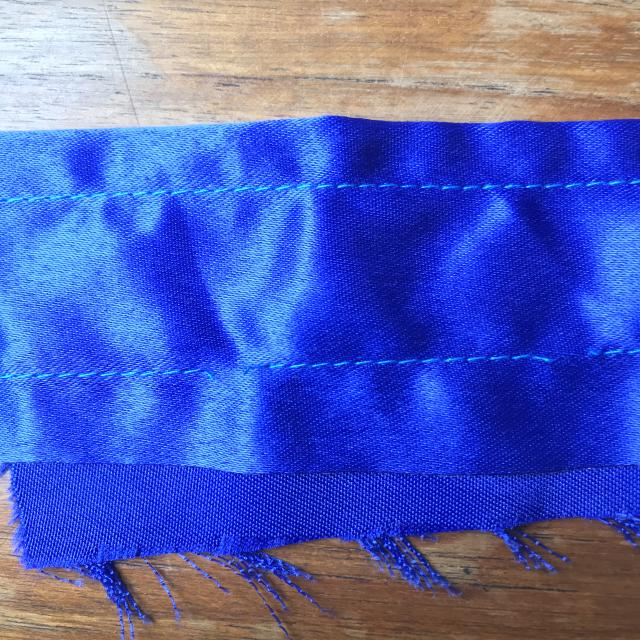broken: (178, 343, 300, 400)
